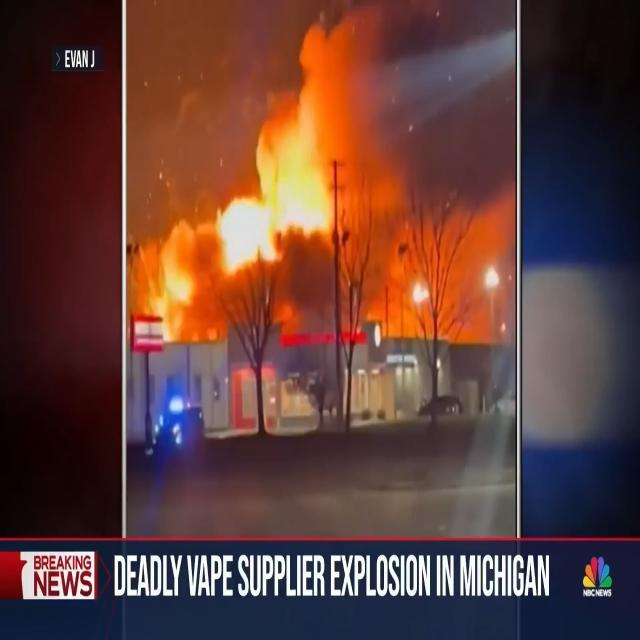fire: (164, 7, 463, 322)
